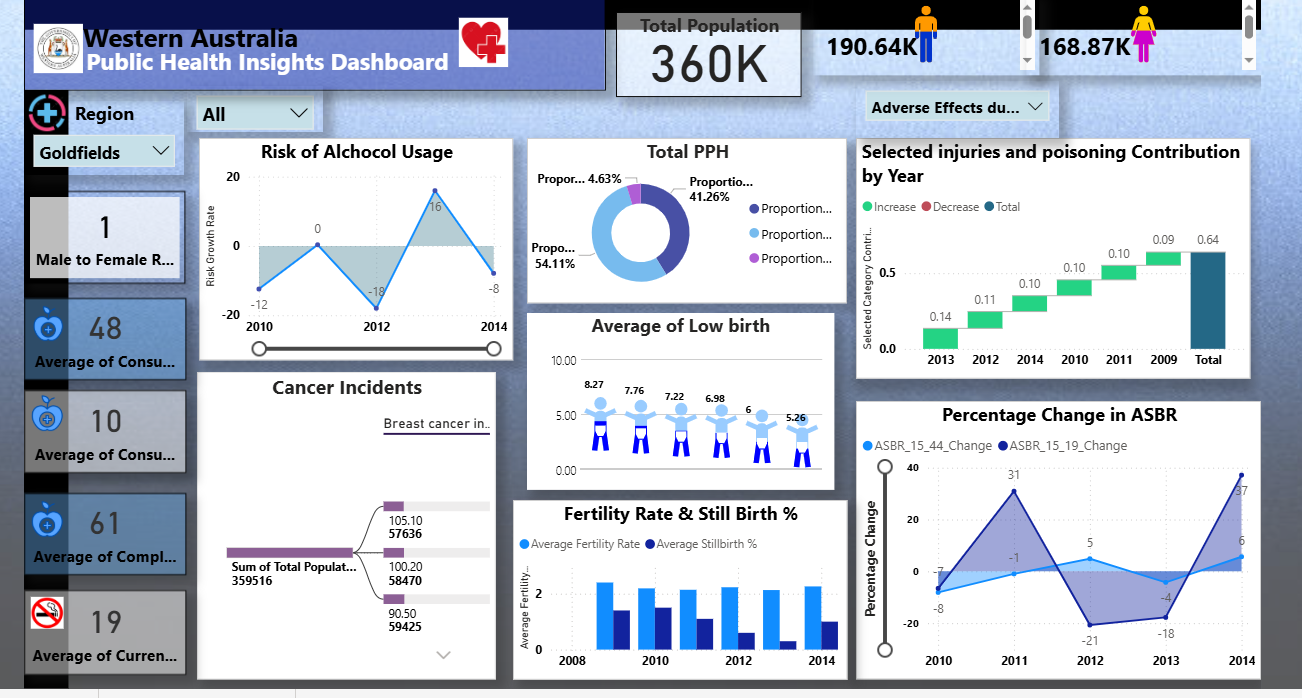

The dashboard page shown, as its layout file describes it:
{"tool":"powerbi","page":{"name":"Page 1","canvas":[1280,720],"ordinal":0},"visuals":[{"type":"shape","box":[0,100.8,46.1,619.2],"z":0},{"type":"slicer","title":"Region","fields":{"Values":["health 1.Region"]},"box":[0,112,166.4,76.8],"z":1000},{"type":"slicer","title":"Year","fields":{"Values":["health 1.Year"]},"box":[168.5,96.5,141.1,47.5],"z":2000},{"type":"lineChart","title":"Risk of Alchocol Usage  ","fields":{"Category":["health 1.Year"],"Y":["health 1.Alcohol Risk"]},"box":[180.8,150.4,324.8,230.4],"z":3000},{"type":"advanceCardE03760C5AB684758B56AA29F9E6C257B","title":"Male:Female","fields":{"mainMeasure":["health 1.Male to Female Ratio All Regions"]},"box":[0,204.5,167,96.5],"z":4000},{"type":"donutChart","title":"Total PPH","fields":{"Y":["health 1.Proportion Acute Conditions","health 1.Proportion Chronic Conditions","health 1.Proportion Vaccine Preventable"]},"box":[520,150.4,331.2,171.2],"z":5000},{"type":"waterfallChart","title":"Selected injuries and poisoning Contribution by Year","fields":{"Y":["CategoryTable.Selected Category Contribution"],"Category":["health 1.Year"]},"box":[861.1,149.8,407.5,249.1],"z":6000},{"type":"slicer","title":"Injuries and Poisoning","fields":{"Values":["CategoryTable.Category"]},"box":[860.8,91.2,209.6,59.2],"z":7000},{"type":"lineChart","title":"Percentage Change in ASBR","fields":{"Category":["health 1.Year"],"Y":["health 1.ASBR_15_44_Change","health 1.ASBR_15_19_Change"]},"box":[860.8,422.4,419.2,288],"z":8000},{"type":"decompositionTreeVisual","title":"Cancer Incidents","fields":{"ExplainBy":["health 1.Breast cancer incidence (female) (ASR per 100,000)","health 1.Melanoma incidence (ASR per 100,000)","health 1.Prostate cancer incidence (male) (ASR per 100,000)","health 1.Colorectal cancer incidence (ASR per 100,000)","health 1.Lung cancer incidence (ASR per 100,000)"],"Analyze":["Sum(health 1.Total Population)"]},"box":[179.2,392,308.8,318.4],"z":9000},{"type":"advanceCardE03760C5AB684758B56AA29F9E6C257B","fields":{"mainMeasure":["Avg(health 1.Consumes two or more serves of fruit daily (%))"]},"box":[0,315.2,168,84.8],"z":10000},{"type":"advanceCardE03760C5AB684758B56AA29F9E6C257B","fields":{"mainMeasure":["Avg(health 1.Consumes 5 or more serves of vegetables daily (%))"]},"box":[0,411.2,168,86.4],"z":11000},{"type":"advanceCardE03760C5AB684758B56AA29F9E6C257B","fields":{"mainMeasure":["Avg(health 1.Completes at least 150 minutes of physical activity over 5 sessions (18 years and over) (%))"]},"box":[0,516.8,168,84.8],"z":12000},{"type":"PBI_CV_73744D90_4DC9_4F18_8BA5_EE8FA5C98035","title":"Average of Low birth","fields":{"Category":["health 1.Year"],"Values":["health 1.Average Low Birth Weight %"]},"box":[519.8,331.2,318.2,182.9],"z":13000},{"type":"lineClusteredColumnComboChart","title":"Fertility Rate & Still Birth %","fields":{"Category":["health 1.Year"],"Y":["health 1.Average Fertility Rate","health 1.Average Stillbirth %"]},"box":[505.4,524.2,345.6,185.8],"z":14000},{"type":"advanceCardE03760C5AB684758B56AA29F9E6C257B","fields":{"mainMeasure":["Avg(health 1.Currently smokes (%))"]},"box":[0,617.6,168,88],"z":15000},{"type":"image","box":[1.6,315.2,46.4,52.8],"z":16000},{"type":"image","box":[0,411.2,48,48],"z":17000},{"type":"image","box":[0,516.8,48,54.4],"z":18000},{"type":"image","box":[0,619.2,48,43.2],"z":19000},{"type":"shape","box":[0,0,1280,38.4],"z":20000},{"type":"shape","box":[0,0,601.6,100.8],"z":21000},{"type":"image","box":[0,27.2,70.4,60.8],"z":22000},{"type":"card","title":"Total Population","fields":{"Values":["Sum(health 1.Total Population)"]},"box":[612.8,19.2,192,88],"z":23000},{"type":"shape","box":[59.2,38.4,385.6,62.4],"z":24000},{"type":"shape","title":"Western Australia","box":[60.8,27.2,326.4,48],"z":25000},{"type":"PBI_CV_73744D90_4DC9_4F18_8BA5_EE8FA5C98035","fields":{"Values":["Sum(health 1.Male Population)"]},"box":[816,0,233.6,84.8],"z":26000},{"type":"PBI_CV_73744D90_4DC9_4F18_8BA5_EE8FA5C98035","fields":{"Values":["Sum(health 1.Female Population)"]},"box":[1036.8,0,243.2,84.8],"z":27000},{"type":"image","box":[0,91.2,48,65.6],"z":28000},{"type":"image","box":[444.8,17.6,60.8,67.2],"z":29000}]}

Visuals, with their boxes in screenshot pixels (x1, y1, x2, y2):
shape: x1=20, y1=103, x2=64, y2=696
"Region" slicer: x1=20, y1=114, x2=180, y2=187
"Year" slicer: x1=182, y1=99, x2=317, y2=145
"Risk of Alchocol Usage  " lineChart: x1=193, y1=151, x2=504, y2=371
"Male:Female" advanceCardE03760C5AB684758B56AA29F9E6C257B: x1=20, y1=202, x2=180, y2=295
"Total PPH" donutChart: x1=518, y1=151, x2=835, y2=314
"Selected injuries and poisoning Contribution by Year" waterfallChart: x1=844, y1=150, x2=1234, y2=388
"Injuries and Poisoning" slicer: x1=844, y1=94, x2=1044, y2=151
"Percentage Change in ASBR" lineChart: x1=844, y1=411, x2=1245, y2=686
"Cancer Incidents" decompositionTreeVisual: x1=192, y1=382, x2=487, y2=686
advanceCardE03760C5AB684758B56AA29F9E6C257B - Avg(health 1.Consumes two or more serves of fruit daily (%)): x1=20, y1=308, x2=181, y2=389
advanceCardE03760C5AB684758B56AA29F9E6C257B - Avg(health 1.Consumes 5 or more serves of vegetables daily (%)): x1=20, y1=400, x2=181, y2=483
advanceCardE03760C5AB684758B56AA29F9E6C257B - Avg(health 1.Completes at least 150 minutes of physical activity over 5 sessions (18 years and over) (%)): x1=20, y1=501, x2=181, y2=582
"Average of Low birth" PBI_CV_73744D90_4DC9_4F18_8BA5_EE8FA5C98035: x1=518, y1=324, x2=822, y2=499
"Fertility Rate & Still Birth %" lineClusteredColumnComboChart: x1=504, y1=508, x2=834, y2=686
advanceCardE03760C5AB684758B56AA29F9E6C257B - Avg(health 1.Currently smokes (%)): x1=20, y1=598, x2=181, y2=682
image: x1=22, y1=308, x2=66, y2=359
image: x1=20, y1=400, x2=66, y2=446
image: x1=20, y1=501, x2=66, y2=553
image: x1=20, y1=599, x2=66, y2=640
shape: x1=20, y1=7, x2=1245, y2=44
shape: x1=20, y1=7, x2=596, y2=103
image: x1=20, y1=33, x2=88, y2=91
"Total Population" card: x1=607, y1=25, x2=790, y2=109
shape: x1=77, y1=44, x2=446, y2=103
"Western Australia" shape: x1=79, y1=33, x2=391, y2=79
PBI_CV_73744D90_4DC9_4F18_8BA5_EE8FA5C98035 - Sum(health 1.Male Population): x1=801, y1=7, x2=1024, y2=88
PBI_CV_73744D90_4DC9_4F18_8BA5_EE8FA5C98035 - Sum(health 1.Female Population): x1=1012, y1=7, x2=1245, y2=88
image: x1=20, y1=94, x2=66, y2=157
image: x1=446, y1=24, x2=504, y2=88
